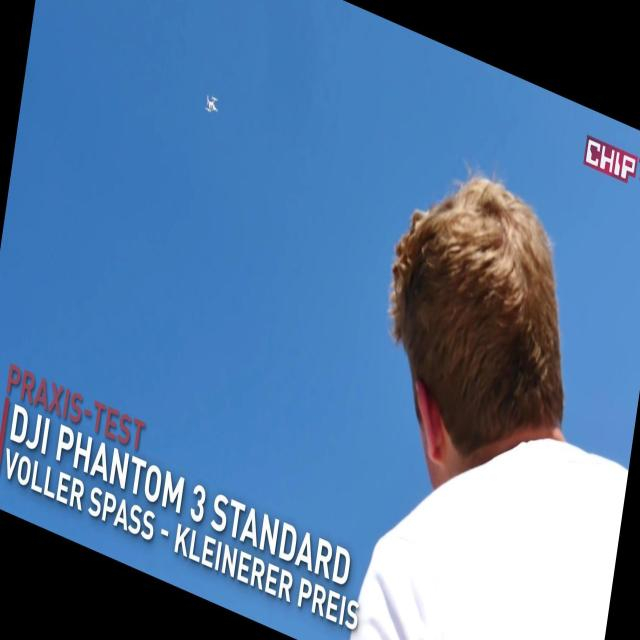drone: (203, 90, 220, 121)
